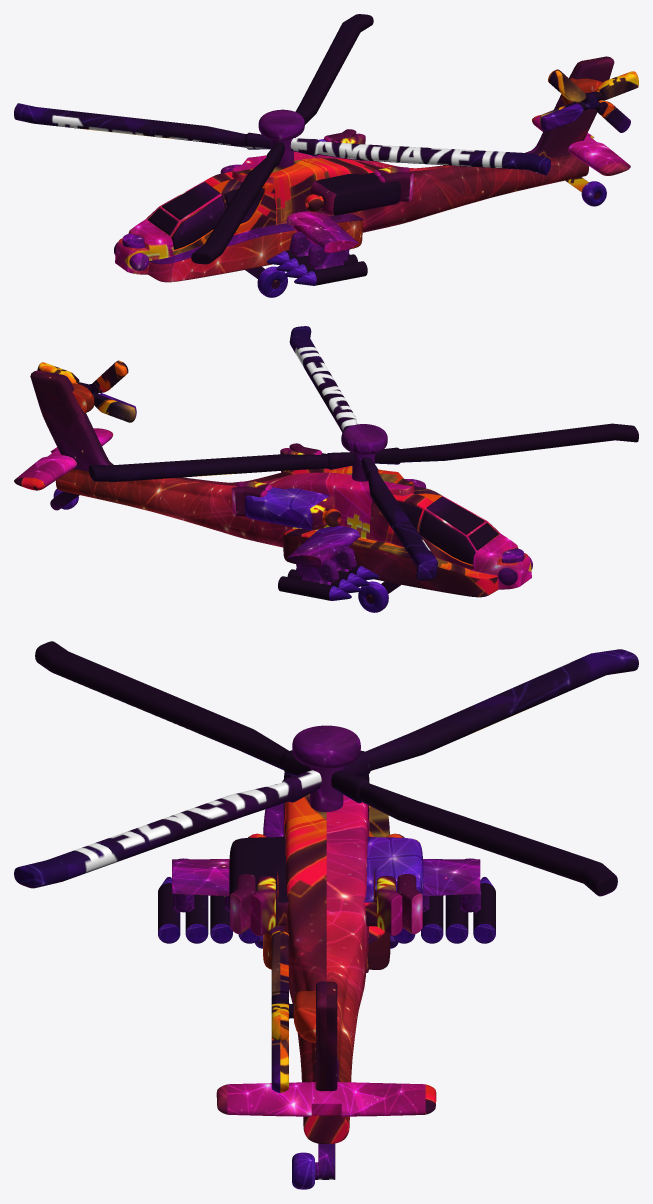
The model's file is jett.obj.
3 views of the same model, one above another, from view 1: azimuth 30°, elevation 25°; view 2: azimuth 150°, elevation 25°; view 3: azimuth 270°, elevation 25° (orthographic). The views are drawn at different scales.
Parts seen in each view (by area): view 1: 18706_Fighter_Helicopter_v1; view 2: 18706_Fighter_Helicopter_v1; view 3: 18706_Fighter_Helicopter_v1.
Boxes of the visible parts, x1,y1,x2,y2 form: 18706_Fighter_Helicopter_v1: [14, 14, 638, 297]; 18706_Fighter_Helicopter_v1: [14, 326, 638, 612]; 18706_Fighter_Helicopter_v1: [14, 641, 638, 1189].
Bounding box in the file's own units: 6.79 × 1.95 × 4.74.
1 material, 1 textured.
